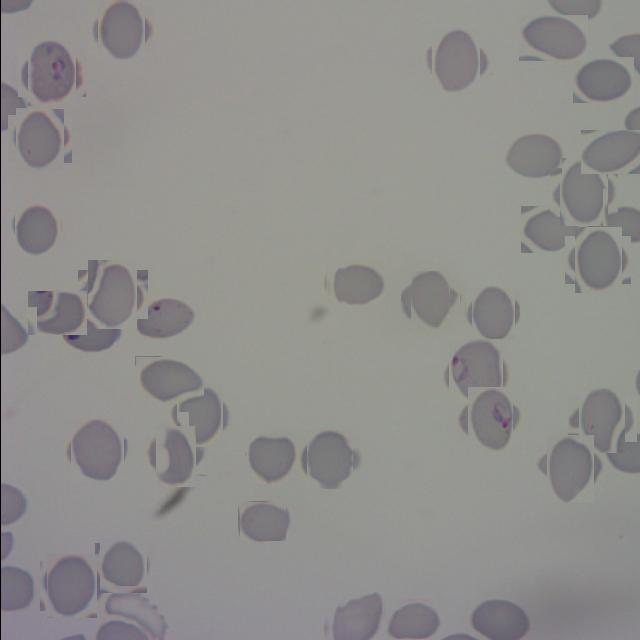leukocyte: (82, 265, 142, 324), (67, 422, 126, 480), (554, 164, 612, 222), (42, 557, 100, 615), (572, 390, 630, 448), (540, 440, 598, 498), (426, 32, 484, 90), (134, 356, 203, 404), (518, 14, 588, 61), (568, 232, 626, 288), (100, 594, 170, 640), (92, 2, 148, 58), (12, 111, 68, 167), (172, 387, 227, 443), (571, 56, 633, 103), (520, 206, 582, 253), (302, 433, 355, 486), (97, 540, 149, 593), (245, 431, 298, 483), (12, 202, 64, 254), (26, 290, 86, 335), (580, 130, 640, 174), (326, 262, 384, 306), (150, 431, 200, 482), (504, 134, 561, 178), (404, 276, 454, 326), (468, 288, 516, 338), (382, 600, 440, 640), (238, 502, 286, 542)
red blood cell: (445, 341, 505, 401), (22, 44, 80, 102), (461, 392, 517, 448)
